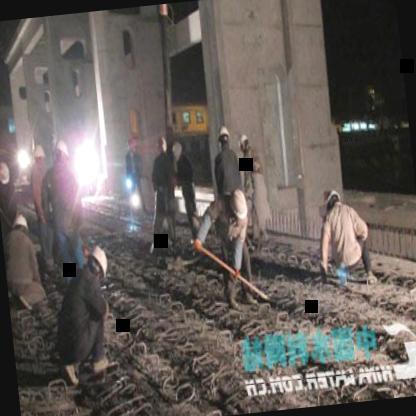helmet: (79, 241, 111, 293), (225, 184, 251, 226), (52, 134, 76, 170), (322, 184, 342, 216), (10, 209, 30, 240), (31, 141, 47, 173), (0, 151, 13, 190), (217, 123, 233, 151), (236, 132, 253, 156)
